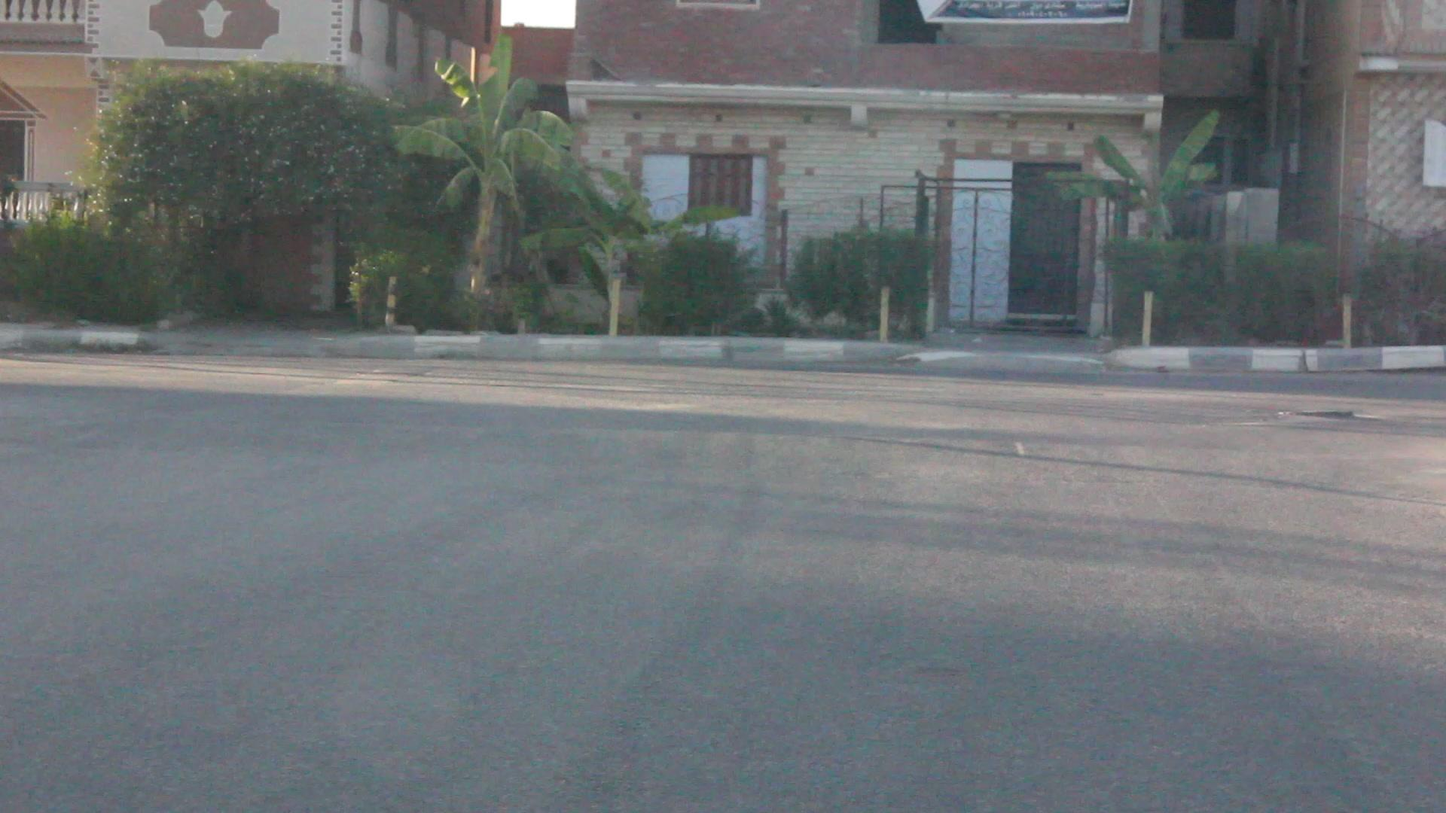Bump: (0, 399, 1445, 511)
